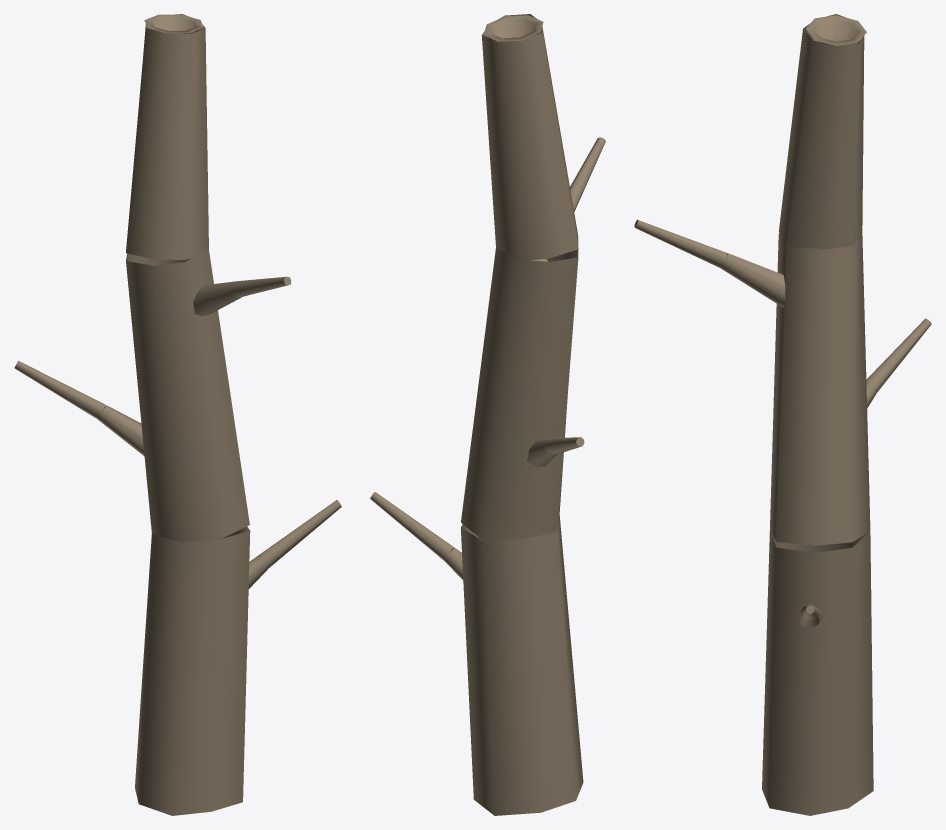
File: fallen_log_lod0.glb
The picture shows the model from 3 angles, left to right: view 1: azimuth 30°, elevation 25°; view 2: azimuth 150°, elevation 25°; view 3: azimuth 270°, elevation 25°; orthographic projection.
Parts seen in each view (by area): view 1: Bark; view 2: Bark; view 3: Bark.
Part boxes in pixels (x1,y1,x2,y2): Bark: (14, 14, 341, 815); Bark: (370, 14, 605, 815); Bark: (634, 14, 931, 815).
Bounding box in the file's own units: 1.77 × 4.83 × 1.7.
